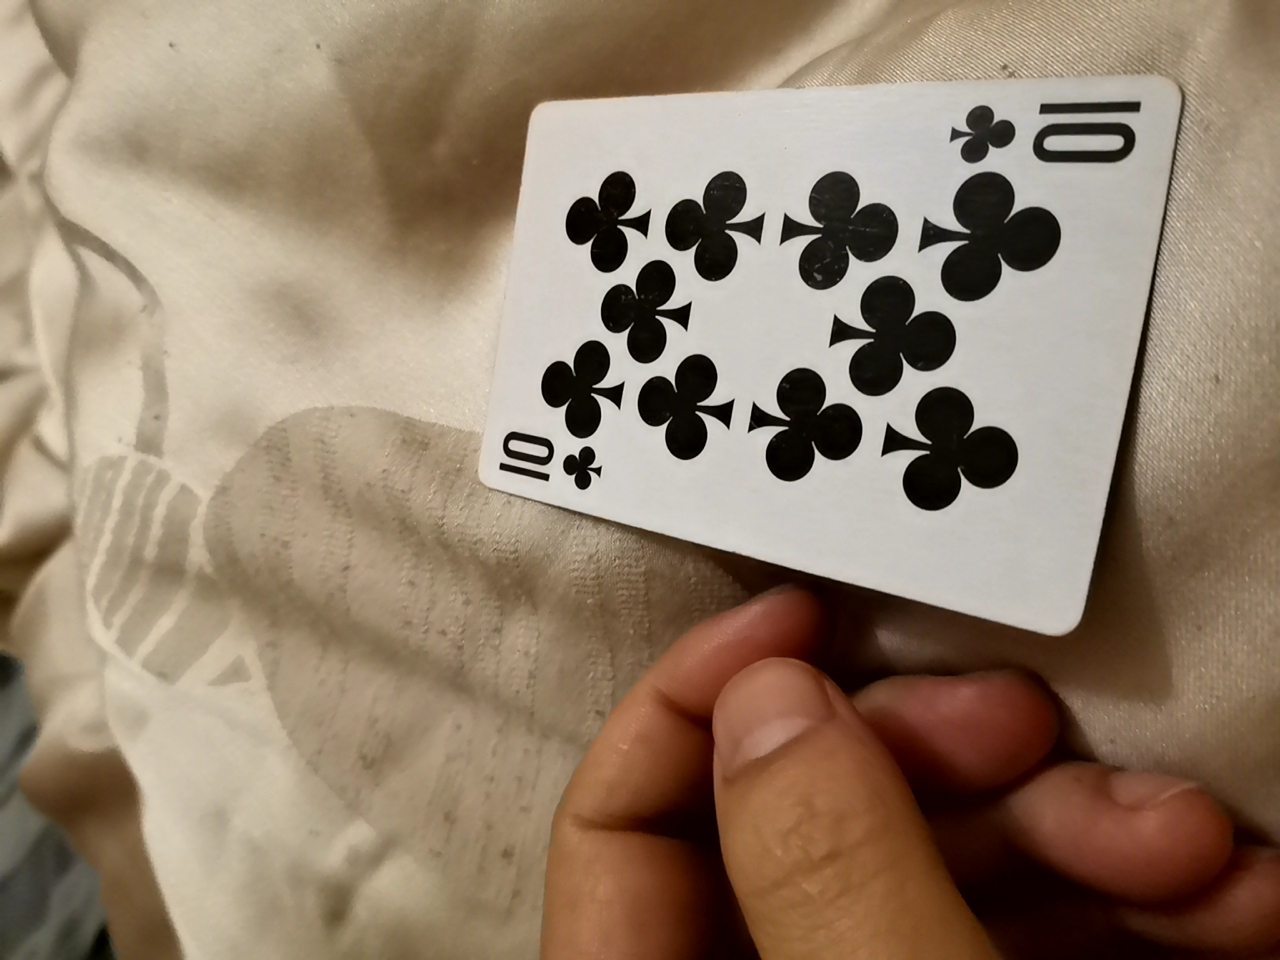mh 10: (474, 62, 1186, 633)
